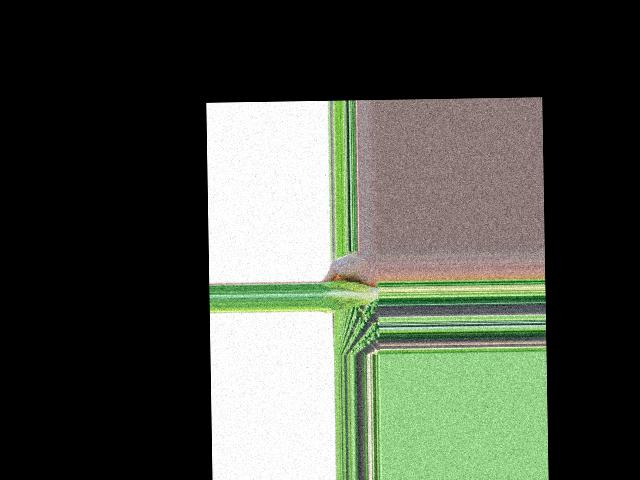lettuce: (322, 280, 380, 312)
